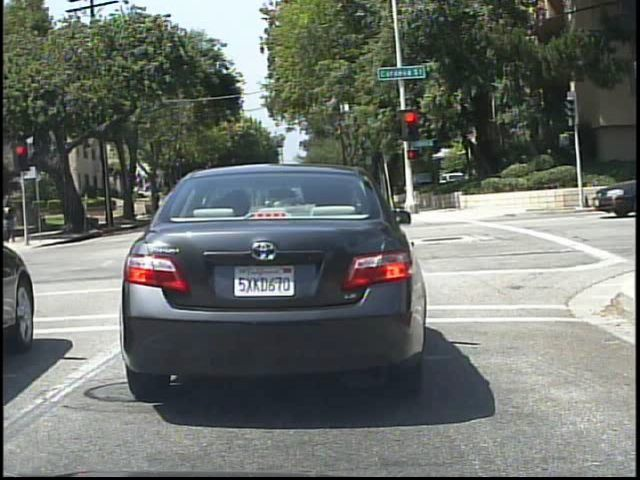person: (3, 194, 18, 246)
